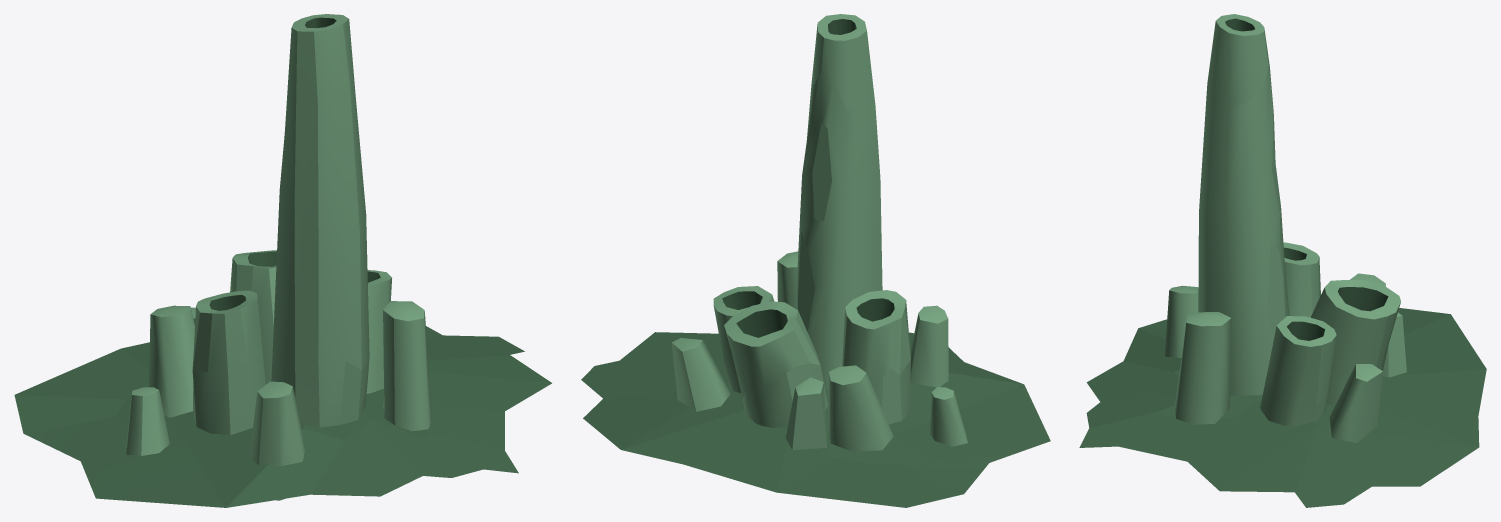
Rendered from coral_tube_set_E_ultralight.fbx.
3 renders of one model, left to right at view 1: azimuth 30°, elevation 25°; view 2: azimuth 150°, elevation 25°; view 3: azimuth 270°, elevation 25°, orthographic. The views are drawn at different scales.
Parts seen in each view (by area): view 1: coral_tube_set_E_ultralight_base, coral_tube_set_E_ultralight_A, coral_tube_set_E_ultralight_C, coral_tube_set_E_ultralight_small_A, coral_tube_set_E_ultralight_small_C, coral_tube_set_E_ultralight_small_B, coral_tube_set_E_ultralight_B, coral_tube_set_E_ultralight_small_D, coral_tube_set_E_ultralight_D; view 2: coral_tube_set_E_ultralight_base, coral_tube_set_E_ultralight_A, coral_tube_set_E_ultralight_B, coral_tube_set_E_ultralight_C, coral_tube_set_E_ultralight_small_C, coral_tube_set_E_ultralight_small_F, coral_tube_set_E_ultralight_small_B, coral_tube_set_E_ultralight_small_E, coral_tube_set_E_ultralight_D, coral_tube_set_E_ultralight_small_D, coral_tube_set_E_ultralight_small_A; view 3: coral_tube_set_E_ultralight_base, coral_tube_set_E_ultralight_A, coral_tube_set_E_ultralight_D, coral_tube_set_E_ultralight_B, coral_tube_set_E_ultralight_small_A, coral_tube_set_E_ultralight_small_F, coral_tube_set_E_ultralight_C, coral_tube_set_E_ultralight_small_B, coral_tube_set_E_ultralight_small_E.
Boxes of the visible parts, <box> form: coral_tube_set_E_ultralight_base: <box>14,326,551,507</box>; coral_tube_set_E_ultralight_A: <box>271,14,369,427</box>; coral_tube_set_E_ultralight_C: <box>192,290,265,434</box>; coral_tube_set_E_ultralight_small_A: <box>383,301,431,431</box>; coral_tube_set_E_ultralight_small_C: <box>148,305,194,417</box>; coral_tube_set_E_ultralight_small_B: <box>249,381,305,500</box>; coral_tube_set_E_ultralight_B: <box>230,250,276,384</box>; coral_tube_set_E_ultralight_small_D: <box>126,387,169,455</box>; coral_tube_set_E_ultralight_D: <box>366,270,391,393</box>; coral_tube_set_E_ultralight_base: <box>581,332,1050,507</box>; coral_tube_set_E_ultralight_A: <box>796,14,882,389</box>; coral_tube_set_E_ultralight_B: <box>724,301,828,427</box>; coral_tube_set_E_ultralight_C: <box>842,290,910,424</box>; coral_tube_set_E_ultralight_small_C: <box>828,365,893,451</box>; coral_tube_set_E_ultralight_small_F: <box>671,338,730,411</box>; coral_tube_set_E_ultralight_small_B: <box>910,305,948,387</box>; coral_tube_set_E_ultralight_small_E: <box>786,377,827,450</box>; coral_tube_set_E_ultralight_D: <box>713,286,774,393</box>; coral_tube_set_E_ultralight_small_D: <box>929,387,967,446</box>; coral_tube_set_E_ultralight_small_A: <box>777,251,798,308</box>; coral_tube_set_E_ultralight_base: <box>1079,308,1486,507</box>; coral_tube_set_E_ultralight_A: <box>1198,14,1289,395</box>; coral_tube_set_E_ultralight_D: <box>1260,316,1336,426</box>; coral_tube_set_E_ultralight_B: <box>1311,280,1400,405</box>; coral_tube_set_E_ultralight_small_A: <box>1174,312,1231,424</box>; coral_tube_set_E_ultralight_small_F: <box>1329,364,1382,443</box>; coral_tube_set_E_ultralight_C: <box>1283,242,1320,317</box>; coral_tube_set_E_ultralight_small_B: <box>1164,285,1198,357</box>; coral_tube_set_E_ultralight_small_E: <box>1382,312,1406,377</box>.
Bounding box in the file's own units: 52.21 × 46.2 × 43.07.
